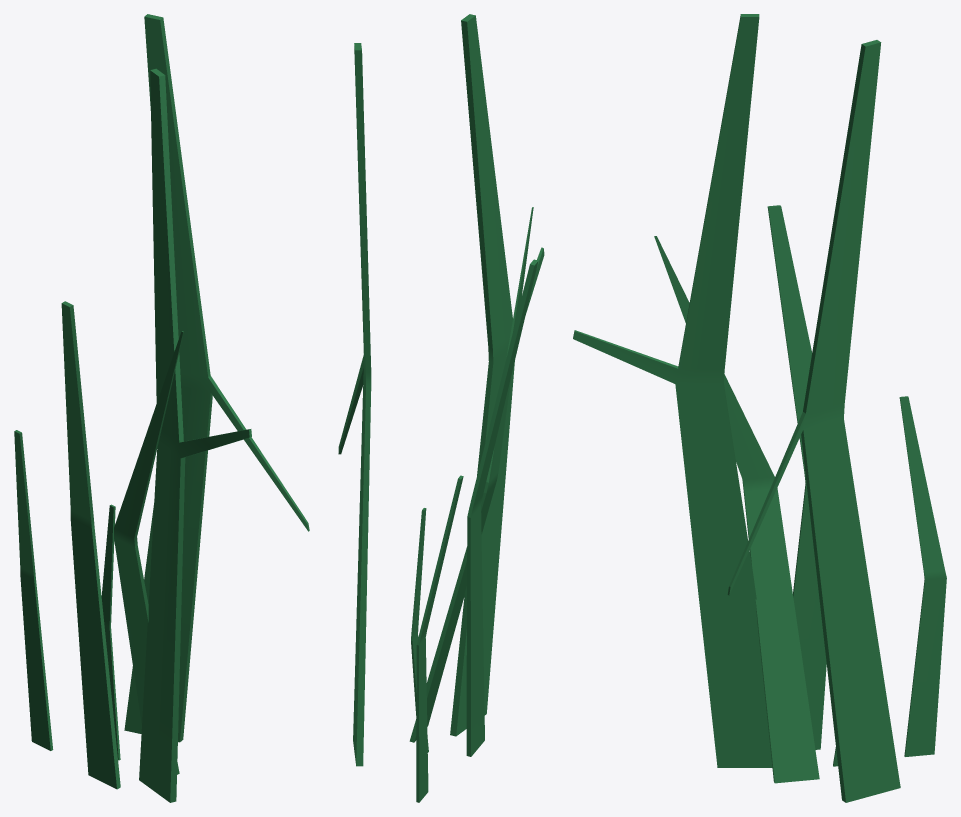
File: Erva_01.fbx
3 renders of one model, left to right at view 1: azimuth 30°, elevation 25°; view 2: azimuth 150°, elevation 25°; view 3: azimuth 270°, elevation 25°, orthographic. The views are drawn at different scales.
Visible parts, largest first — view 1: pCube1, pCube6, pCube3, pCube4, pCube5, pCube2; view 2: pCube1, pCube6, pCube3, pCube4, pCube5, pCube2; view 3: pCube1, pCube6, pCube4, pCube3, pCube5.
Part boxes in pixels (box(x1,y1,x2,y2)): pCube1: box(139, 68, 251, 802); pCube6: box(124, 14, 309, 742); pCube3: box(61, 301, 120, 789); pCube4: box(114, 331, 183, 774); pCube5: box(14, 430, 53, 750); pCube2: box(101, 504, 120, 760); pCube1: box(450, 14, 544, 736); pCube6: box(338, 43, 371, 766); pCube3: box(466, 259, 538, 756); pCube4: box(409, 207, 533, 742); pCube5: box(416, 475, 463, 802); pCube2: box(411, 508, 428, 752); pCube1: box(573, 14, 772, 767); pCube6: box(727, 40, 900, 802); pCube4: box(654, 236, 819, 783); pCube3: box(767, 205, 826, 749); pCube5: box(899, 396, 946, 756).
Bounding box in the file's own units: 0.326 × 1.01 × 0.4512.
